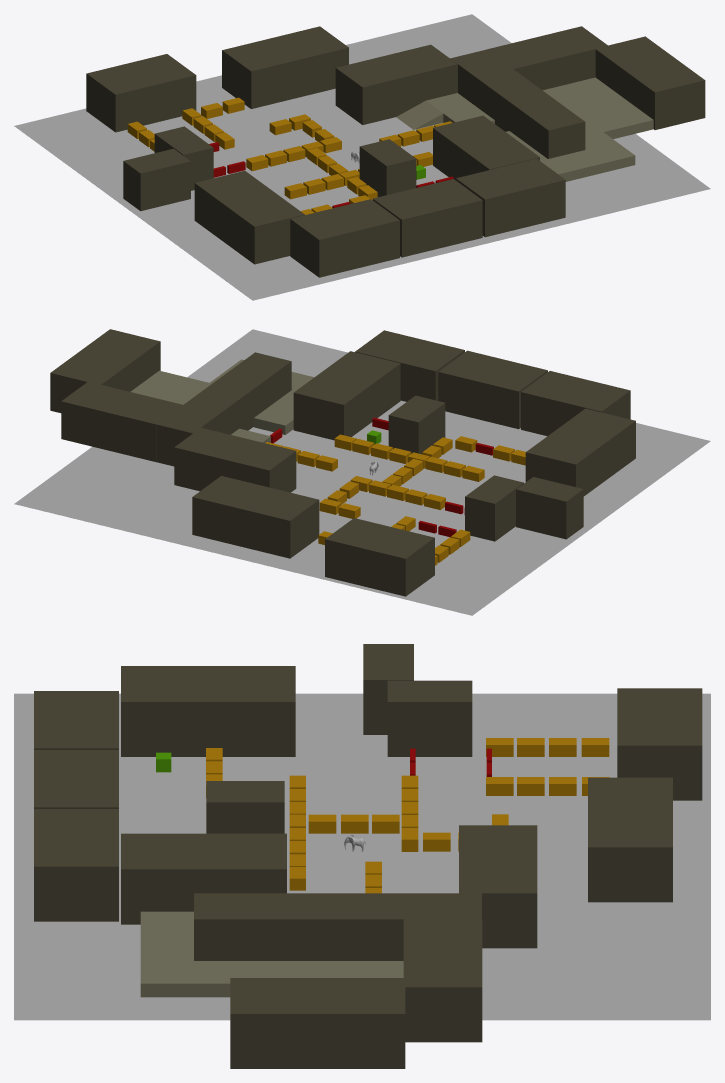
File: MazeMarket.fbx
3 views of the same model, one above another, from view 1: azimuth 30°, elevation 25°; view 2: azimuth 150°, elevation 25°; view 3: azimuth 270°, elevation 25° (orthographic). The views are drawn at different scales.
Parts seen in each view (by area): view 1: Floor_01, Building_07, Building_16, Building_08, Building_02, Building_18, Building_09, Building_06, Building_11, Building_10, Building_17, Building_05 (+8 smaller); view 2: Floor_01, Building_07, Building_05, Building_16, Building_06, Building_02, Building_17, Building_08, Building_10, Building_18, Building_09, Building_11 (+5 smaller); view 3: Floor_01, Building_16, Building_18, Building_02, Building_05, Building_07, Building_17, Building_11, Building_08, Building_06, Building_04, Building_10 (+7 smaller).
Boxes of the visible parts, <box> form: Floor_01: <box>14,14,710,300</box>; Building_07: <box>222,26,348,108</box>; Building_16: <box>450,49,585,158</box>; Building_08: <box>335,44,457,124</box>; Building_02: <box>194,171,304,264</box>; Building_18: <box>595,36,705,129</box>; Building_09: <box>290,199,399,277</box>; Building_06: <box>86,54,196,132</box>; Building_11: <box>456,158,565,237</box>; Building_10: <box>373,179,482,257</box>; Building_17: <box>487,26,608,90</box>; Building_05: <box>433,115,539,180</box>; Floor_01: <box>14,329,710,615</box>; Building_07: <box>192,476,319,558</box>; Building_05: <box>293,351,400,440</box>; Building_16: <box>156,352,291,466</box>; Building_06: <box>325,518,434,596</box>; Building_02: <box>525,408,635,496</box>; Building_17: <box>61,381,182,462</box>; Building_08: <box>174,427,296,492</box>; Building_10: <box>438,350,547,429</box>; Building_18: <box>50,329,160,412</box>; Building_09: <box>521,371,630,436</box>; Building_11: <box>355,330,464,401</box>; Floor_01: <box>14,693,710,1020</box>; Building_16: <box>194,893,481,960</box>; Building_18: <box>230,978,405,1068</box>; Building_02: <box>121,666,295,756</box>; Building_05: <box>121,833,286,924</box>; Building_07: <box>588,777,672,902</box>; Building_17: <box>403,919,482,1042</box>; Building_11: <box>34,809,118,921</box>; Building_08: <box>459,825,537,948</box>; Building_06: <box>617,688,702,800</box>; Building_04: <box>387,680,472,756</box>; Building_10: <box>34,750,118,808</box>.
Bounding box in the file's own units: 16572 × 1136 × 13011.
